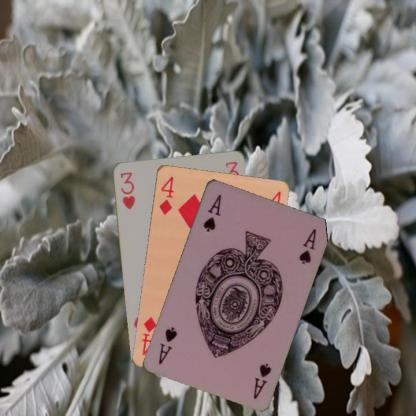3h: (118, 169, 136, 210)
4d: (157, 173, 175, 216)
As: (200, 192, 223, 234), (250, 360, 273, 400)
